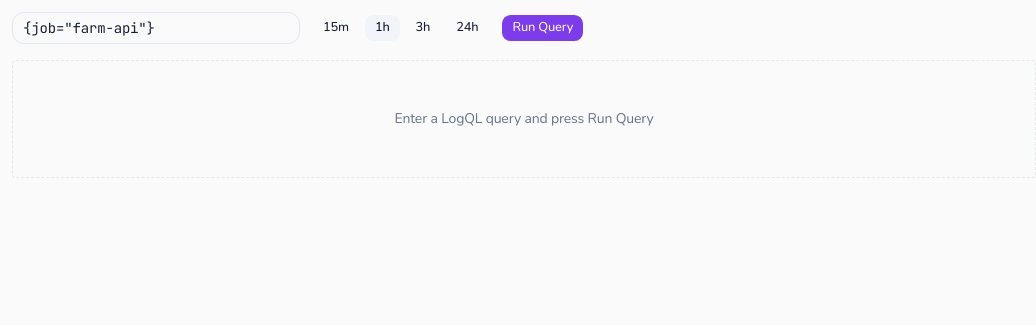
Test: LogsTab › shows a loading state while the query is in flight
Click the button "Run Query". click: click(543, 28)
box: [502, 14, 584, 42]
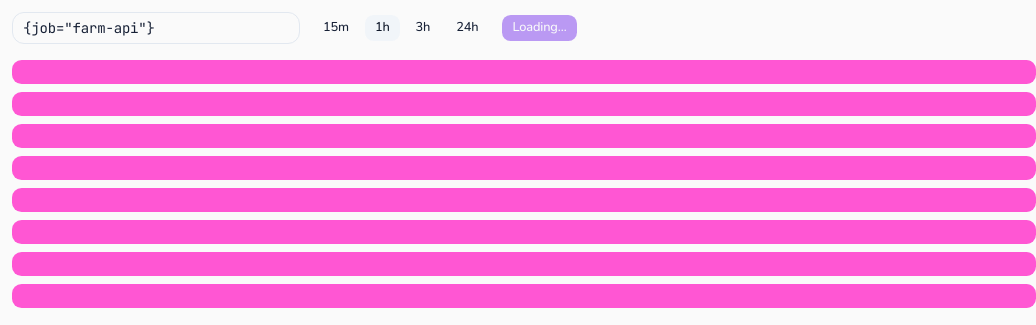
Expected: the button "Loading…" is disabled, [502, 14, 578, 42]
